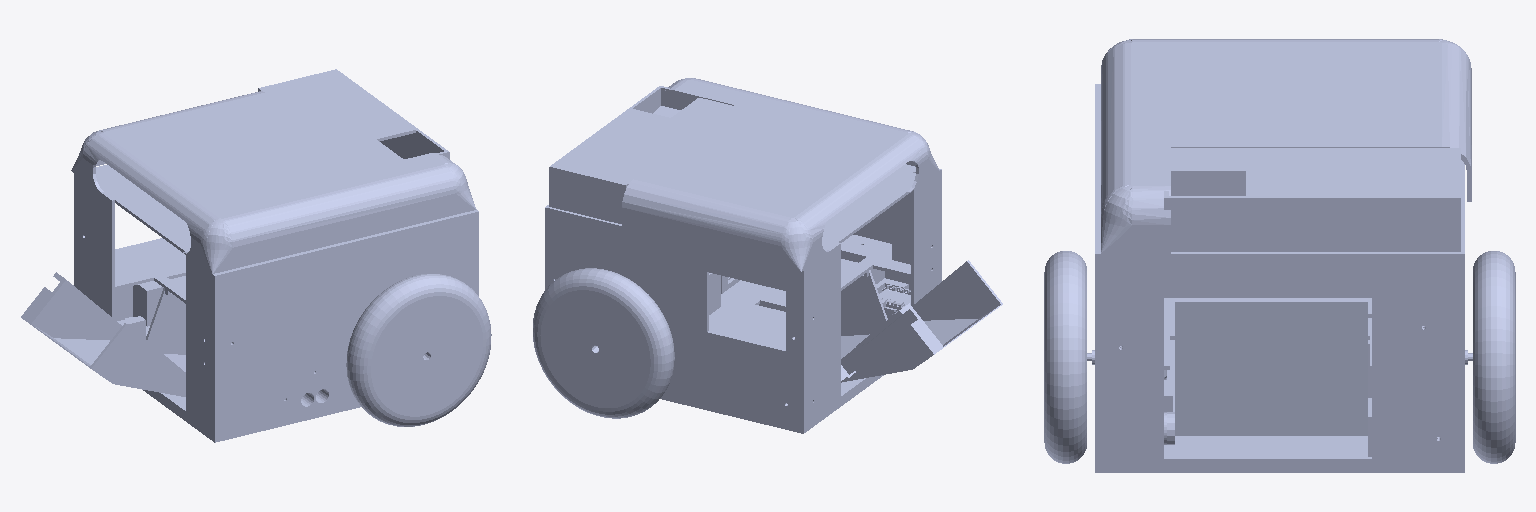
The robot description file, URDF, robot "TNBD_proto2":
<?xml version="1.0" encoding="utf-8"?>
<!-- This URDF was automatically created by SolidWorks to URDF Exporter! Originally created by [author] ([email redacted]) 
     Commit Version: 1.6.0-1-g15f4949  Build Version: 1.6.7594.29634
     For more information, please see http://wiki.ros.org/sw_urdf_exporter -->
<robot
  name="TNBD_proto2">
  <link
    name="base_link">
    <inertial>
      <origin
        xyz="-0.0157946688399536 -0.012614688784212 -0.0157120868155752"
        rpy="0 0 0" />
      <mass
        value="3.99702543037843" />
      <inertia
        ixx="0.0110517275685338"
        ixy="-3.65084394142155E-05"
        ixz="-0.000645998876566954"
        iyy="0.0183032822534976"
        iyz="-0.000148561625102144"
        izz="0.0102034402909243" />
    </inertial>
    <visual>
      <origin
        xyz="0 0 0"
        rpy="0 0 0" />
      <geometry>
        <mesh
          filename="package://TNBD_proto2/meshes/base_link.STL" />
      </geometry>
      <material
        name="">
        <color
          rgba="0.792156862745098 0.819607843137255 0.933333333333333 1" />
      </material>
    </visual>
    <collision>
      <origin
        xyz="0 0 0"
        rpy="0 0 0" />
      <geometry>
        <mesh
          filename="package://TNBD_proto2/meshes/base_link.STL" />
      </geometry>
    </collision>
  </link>
  <link
    name="opencr_link">
    <inertial>
      <origin
        xyz="0.020521 -0.018115 -0.011206"
        rpy="0 0 0" />
      <mass
        value="5.558" />
      <inertia
        ixx="0.070293"
        ixy="0.0029532"
        ixz="-0.00042225"
        iyy="0.060266"
        iyz="-0.00062979"
        izz="0.090571" />
    </inertial>
    <visual>
      <origin
        xyz="0 0 0"
        rpy="0 0 0" />
      <geometry>
        <mesh
          filename="package://TNBD_proto2/meshes/opencr_link.STL" />
      </geometry>
      <material
        name="">
        <color
          rgba="0.79216 0.81961 0.93333 1" />
      </material>
    </visual>
    <collision>
      <origin
        xyz="0 0 0"
        rpy="0 0 0" />
      <geometry>
        <mesh
          filename="package://TNBD_proto2/meshes/opencr_link.STL" />
      </geometry>
    </collision>
  </link>
  <joint
    name="opencr_joint"
    type="fixed">
    <origin
      xyz="0 0 0"
      rpy="0 0 -3.1416" />
    <parent
      link="base_link" />
    <child
      link="opencr_link" />
    <axis
      xyz="0 0 0" />
  </joint>
  <link
    name="lidar_link">
    <inertial>
      <origin
        xyz="1.3394E-08 1.1116E-09 0.029386"
        rpy="0 0 0" />
      <mass
        value="0.13177" />
      <inertia
        ixx="6.9567E-05"
        ixy="-9.5937E-12"
        ixz="-5.2972E-11"
        iyy="6.9567E-05"
        iyz="-4.3961E-12"
        izz="4.4764E-05" />
    </inertial>
    <visual>
      <origin
        xyz="0 0 0"
        rpy="0 0 0" />
      <geometry>
        <mesh
          filename="package://TNBD_proto2/meshes/lidar_link.STL" />
      </geometry>
      <material
        name="">
        <color
          rgba="0.79216 0.81961 0.93333 1" />
      </material>
    </visual>
    <collision>
      <origin
        xyz="0 0 0"
        rpy="0 0 0" />
      <geometry>
        <mesh
          filename="package://TNBD_proto2/meshes/lidar_link.STL" />
      </geometry>
    </collision>
  </link>
  <joint
    name="lidar_joint"
    type="fixed">
    <origin
      xyz="-0.035043 0.0083315 0.077"
      rpy="0 0 0" />
    <parent
      link="base_link" />
    <child
      link="lidar_link" />
    <axis
      xyz="0 0 0" />
  </joint>
  <link
    name="camera_link">
    <inertial>
      <origin
        xyz="-6.5919E-17 -2.4587E-10 0.0165"
        rpy="0 0 0" />
      <mass
        value="0.16688" />
      <inertia
        ixx="2.7222E-05"
        ixy="-2.5726E-19"
        ixz="-3.9561E-19"
        iyy="0.00041211"
        iyz="4.5682E-14"
        izz="0.00040904" />
    </inertial>
    <visual>
      <origin
        xyz="0 0 0"
        rpy="0 0 0" />
      <geometry>
        <mesh
          filename="package://TNBD_proto2/meshes/camera_link.STL" />
      </geometry>
      <material
        name="">
        <color
          rgba="0.79216 0.81961 0.93333 1" />
      </material>
    </visual>
    <collision>
      <origin
        xyz="0 0 0"
        rpy="0 0 0" />
      <geometry>
        <mesh
          filename="package://TNBD_proto2/meshes/camera_link.STL" />
      </geometry>
    </collision>
  </link>
  <joint
    name="camera_joint"
    type="fixed">
    <origin
      xyz="-0.13404 0.0083315 0.092"
      rpy="-1.5708 0 1.5708" />
    <parent
      link="base_link" />
    <child
      link="camera_link" />
    <axis
      xyz="0 0 0" />
  </joint>
  <link
    name="left_wheel_link">
    <inertial>
      <origin
        xyz="1.0686E-15 -1.5474E-15 0.0145"
        rpy="0 0 0" />
      <mass
        value="0.43185" />
      <inertia
        ixx="0.00054731"
        ixy="-2.7105E-20"
        ixz="-5.2052E-20"
        iyy="0.00054731"
        iyz="1.7174E-19"
        izz="0.001039" />
    </inertial>
    <visual>
      <origin
        xyz="0 0 0"
        rpy="0 0 0" />
      <geometry>
        <mesh
          filename="package://TNBD_proto2/meshes/left_wheel_link.STL" />
      </geometry>
      <material
        name="">
        <color
          rgba="0.79216 0.81961 0.93333 1" />
      </material>
    </visual>
    <collision>
      <origin
        xyz="0 0 0"
        rpy="0 0 0" />
      <geometry>
        <mesh
          filename="package://TNBD_proto2/meshes/left_wheel_link.STL" />
      </geometry>
    </collision>
  </link>
  <joint
    name="left_wheel_joint"
    type="continuous">
    <origin
      xyz="0.027457 -0.12147 -0.0339"
      rpy="-1.5708 0.62286 -3.1416" />
    <parent
      link="base_link" />
    <child
      link="left_wheel_link" />
    <axis
      xyz="0 0 1" />
  </joint>
  <link
    name="right_wheel_link">
    <inertial>
      <origin
        xyz="-1.7833E-15 6.5226E-16 -0.0145"
        rpy="0 0 0" />
      <mass
        value="0.43185" />
      <inertia
        ixx="0.00054731"
        ixy="-8.4703E-22"
        ixz="2.7176E-19"
        iyy="0.00054731"
        iyz="-6.4481E-19"
        izz="0.001039" />
    </inertial>
    <visual>
      <origin
        xyz="0 0 0"
        rpy="0 0 0" />
      <geometry>
        <mesh
          filename="package://TNBD_proto2/meshes/right_wheel_link.STL" />
      </geometry>
      <material
        name="">
        <color
          rgba="0.79216 0.81961 0.93333 1" />
      </material>
    </visual>
    <collision>
      <origin
        xyz="0 0 0"
        rpy="0 0 0" />
      <geometry>
        <mesh
          filename="package://TNBD_proto2/meshes/right_wheel_link.STL" />
      </geometry>
    </collision>
  </link>
  <joint
    name="right_wheel_joint"
    type="continuous">
    <origin
      xyz="0.027457 0.13813 -0.0339"
      rpy="1.5708 -0.0072638 0" />
    <parent
      link="base_link" />
    <child
      link="right_wheel_link" />
    <axis
      xyz="0 0 1" />
  </joint>
  <link
    name="front_link">
    <inertial>
      <origin
        xyz="-0.10255 0.018636 -0.049942"
        rpy="0 0 0" />
      <mass
        value="0.27353" />
      <inertia
        ixx="0.00033404"
        ixy="-5.0293E-07"
        ixz="1.3478E-06"
        iyy="0.00079398"
        iyz="6.4762E-05"
        izz="0.00055279" />
    </inertial>
    <visual>
      <origin
        xyz="0 0 0"
        rpy="0 0 0" />
      <geometry>
        <mesh
          filename="package://TNBD_proto2/meshes/front_link.STL" />
      </geometry>
      <material
        name="">
        <color
          rgba="0.79216 0.81961 0.93333 1" />
      </material>
    </visual>
    <collision>
      <origin
        xyz="0 0 0"
        rpy="0 0 0" />
      <geometry>
        <mesh
          filename="package://TNBD_proto2/meshes/front_link.STL" />
      </geometry>
    </collision>
  </link>
  <joint
    name="front_joint"
    type="revolute">
    <origin
      xyz="-0.15554 0 -0.06"
      rpy="-2.3678 0 -1.5708" />
    <parent
      link="base_link" />
    <child
      link="front_link" />
    <axis
      xyz="0 0 1" />
    <limit
      lower="0"
      upper="0"
      effort="0"
      velocity="0" />
  </joint>
  <link
    name="feed_link">
    <inertial>
      <origin
        xyz="-0.01657 -6.9389E-18 0.00075"
        rpy="0 0 0" />
      <mass
        value="0.0014343" />
      <inertia
        ixx="5.8938E-08"
        ixy="1.3276E-22"
        ixz="-6.1008E-22"
        iyy="2.6575E-07"
        iyz="-1.4965E-21"
        izz="3.2415E-07" />
    </inertial>
    <visual>
      <origin
        xyz="0 0 0"
        rpy="0 0 0" />
      <geometry>
        <mesh
          filename="package://TNBD_proto2/meshes/feed_link.STL" />
      </geometry>
      <material
        name="">
        <color
          rgba="0.79216 0.81961 0.93333 1" />
      </material>
    </visual>
    <collision>
      <origin
        xyz="0 0 0"
        rpy="0 0 0" />
      <geometry>
        <mesh
          filename="package://TNBD_proto2/meshes/feed_link.STL" />
      </geometry>
    </collision>
  </link>
  <joint
    name="feed_joint"
    type="revolute">
    <origin
      xyz="0.055457 -0.053668 0.0483"
      rpy="0 0 -1.4798" />
    <parent
      link="base_link" />
    <child
      link="feed_link" />
    <axis
      xyz="0 1 0" />
    <limit
      lower="0"
      upper="0"
      effort="0"
      velocity="0" />
  </joint>
  <link
    name="back_link">
    <inertial>
      <origin
        xyz="-0.0015958 -0.0021932 -0.045266"
        rpy="0 0 0" />
      <mass
        value="0.12367" />
      <inertia
        ixx="0.00015412"
        ixy="-1.9922E-07"
        ixz="-4.1067E-06"
        iyy="0.00039231"
        iyz="-1.1525E-05"
        izz="0.00026407" />
    </inertial>
    <visual>
      <origin
        xyz="0 0 0"
        rpy="0 0 0" />
      <geometry>
        <mesh
          filename="package://TNBD_proto2/meshes/back_link.STL" />
      </geometry>
      <material
        name="">
        <color
          rgba="0.79216 0.81961 0.93333 1" />
      </material>
    </visual>
    <collision>
      <origin
        xyz="0 0 0"
        rpy="0 0 0" />
      <geometry>
        <mesh
          filename="package://TNBD_proto2/meshes/back_link.STL" />
      </geometry>
    </collision>
  </link>
  <joint
    name="back_joint"
    type="revolute">
    <origin
      xyz="0.085457 0 -0.06"
      rpy="-3.1275 0 -1.5708" />
    <parent
      link="base_link" />
    <child
      link="back_link" />
    <axis
      xyz="0 0 1" />
    <limit
      lower="0"
      upper="0"
      effort="0"
      velocity="0" />
  </joint>
</robot>

--- Render facts (derived) ---
The picture shows the robot from 3 angles, left to right: view 1: azimuth 30°, elevation 25°; view 2: azimuth 150°, elevation 25°; view 3: azimuth 270°, elevation 25°; orthographic projection.
Model TNBD_proto2 with 9 links and 8 joints (3 revolute, 2 continuous, 3 fixed), rooted at base_link, posed every joint at zero.
Links seen in each view (by area): view 1: base_link, left_wheel_link, front_link; view 2: base_link, right_wheel_link, front_link; view 3: base_link, back_link, left_wheel_link, right_wheel_link.
Link boxes in pixels (left/top/right/bottom): base_link: left=71, top=69, right=478, bottom=442; left_wheel_link: left=346, top=274, right=491, bottom=426; front_link: left=21, top=272, right=185, bottom=396; base_link: left=545, top=78, right=941, bottom=433; right_wheel_link: left=533, top=268, right=674, bottom=418; front_link: left=841, top=260, right=1002, bottom=382; base_link: left=1087, top=39, right=1472, bottom=472; back_link: left=1167, top=298, right=1367, bottom=444; left_wheel_link: left=1044, top=251, right=1086, bottom=463; right_wheel_link: left=1473, top=251, right=1515, bottom=463.
Size in the robot's own frame: 0.3653 by 0.3176 by 0.224 metres.
Meshes: 9 distinct files referenced, 7 mesh visuals loaded (7 binary STL); not drawn: 2 (reference not matched to a file when rendering).